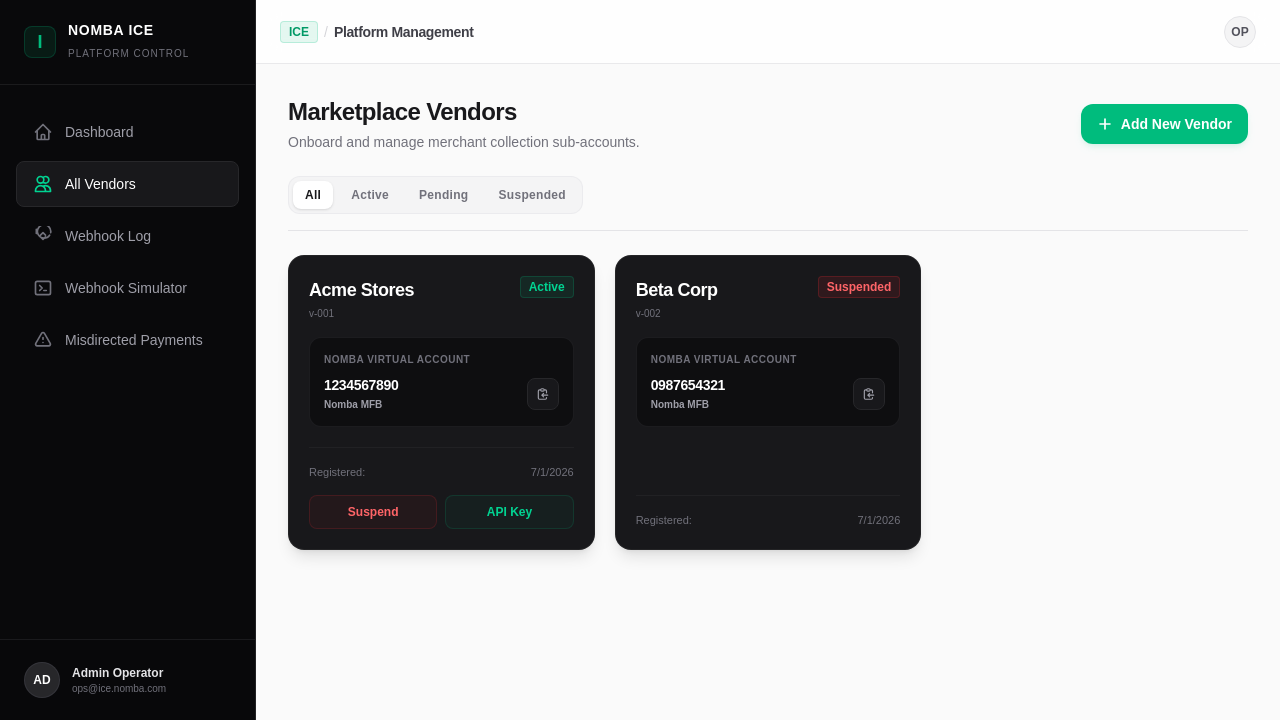
Test: VendorsIndex Page › shows all vendors when All filter is clicked
The width and height of the screenshot is (1280, 720).
Check: the heading "Acme Stores" is shown, box 309,276 -> 414,304
// First filter to Active
Click the button "active" at {"x": 370, "y": 195}, box 339,181 -> 401,209
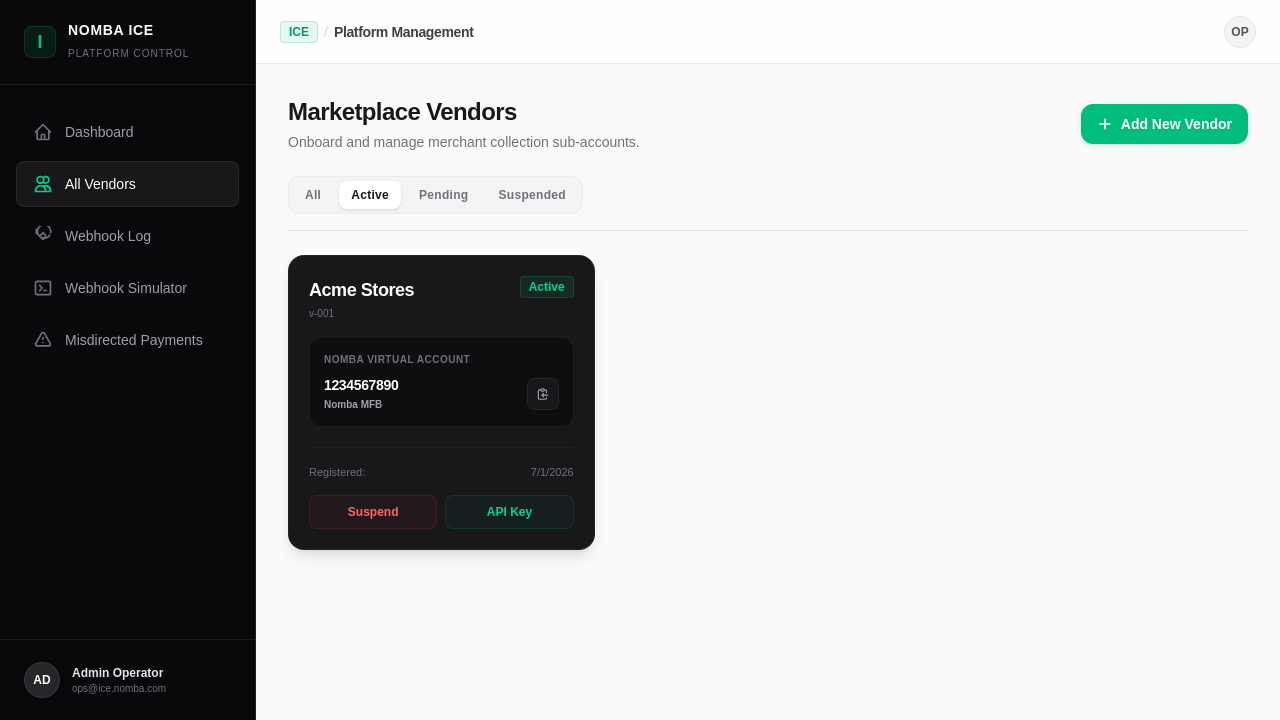
// Then go back to All
Click the button "all" at {"x": 313, "y": 195}, box 293,181 -> 333,209
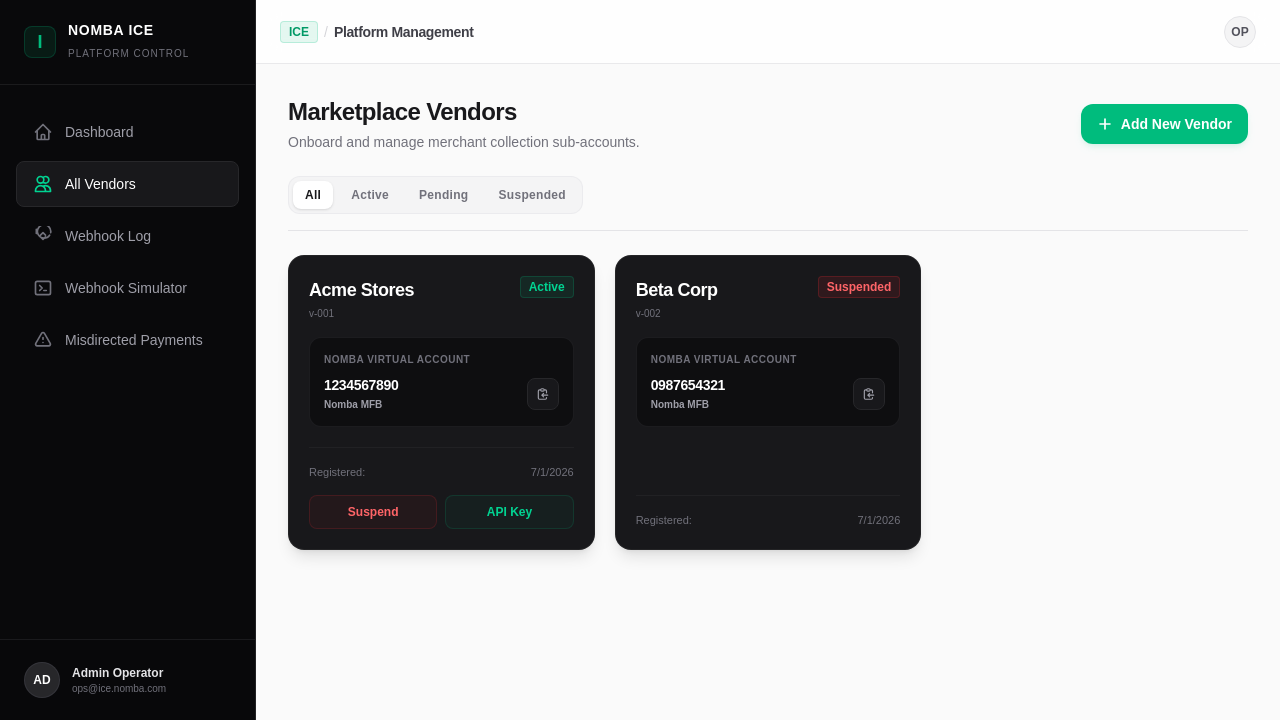
Check: the heading "Acme Stores" is shown, box 309,276 -> 414,304
Check: the heading "Beta Corp" is shown, box 636,276 -> 718,304
